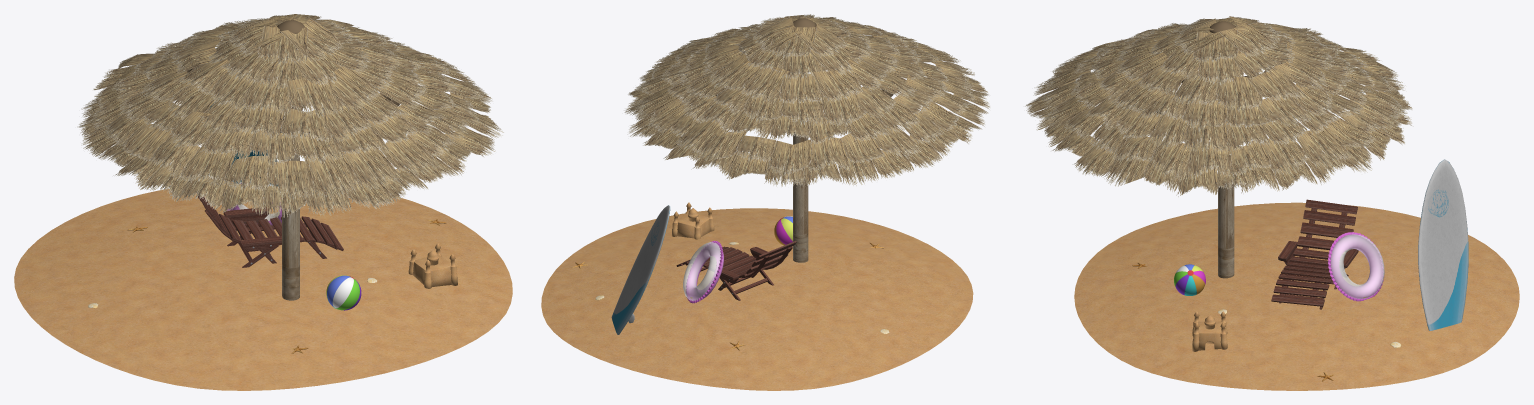
File: beach_summer__assets_kit-834d2a6d.glb
3 renders of one model, left to right at view 1: azimuth 30°, elevation 25°; view 2: azimuth 150°, elevation 25°; view 3: azimuth 270°, elevation 25°, orthographic. The views are drawn at different scales.
Visible parts, largest first — view 1: Object_5, Object_7, Object_12, Object_6, Object_9, Object_4; view 2: Object_5, Object_7, Object_8, Object_12, Object_6, Object_2, Object_3, Object_9, Object_4; view 3: Object_5, Object_7, Object_8, Object_12, Object_3, Object_2, Object_6, Object_9, Object_4.
Boxes of the visible parts, box(x1,y1,x2,y2) form: Object_5: box(14, 182, 512, 390); Object_7: box(77, 14, 503, 217); Object_12: box(197, 192, 343, 267); Object_6: box(183, 20, 399, 300); Object_9: box(408, 243, 457, 288); Object_4: box(326, 275, 361, 310); Object_5: box(541, 208, 973, 390); Object_7: box(624, 14, 990, 186); Object_8: box(611, 205, 670, 334); Object_12: box(676, 241, 796, 300); Object_6: box(716, 18, 893, 262); Object_2: box(683, 242, 720, 300); Object_3: box(686, 240, 723, 303); Object_9: box(671, 202, 714, 239); Object_4: box(774, 216, 792, 245); Object_5: box(1074, 202, 1519, 390); Object_7: box(1025, 16, 1413, 196); Object_8: box(1418, 159, 1468, 330); Object_12: box(1271, 199, 1358, 309); Object_3: box(1328, 232, 1384, 301); Object_2: box(1330, 234, 1384, 298); Object_6: box(1156, 21, 1287, 278); Object_9: box(1192, 311, 1227, 351); Object_4: box(1174, 264, 1205, 295).
Bounding box in the file's own units: 3.04 × 2.13 × 3.39.
12 materials, 11 textured.
